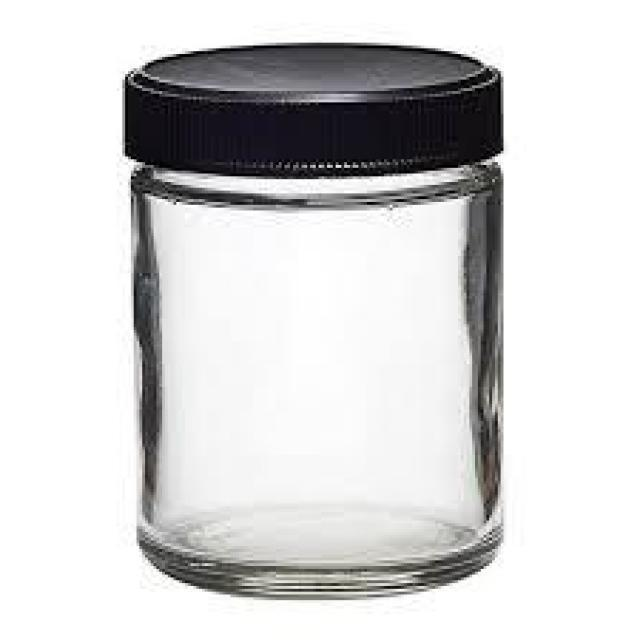glass: (118, 37, 511, 600)
